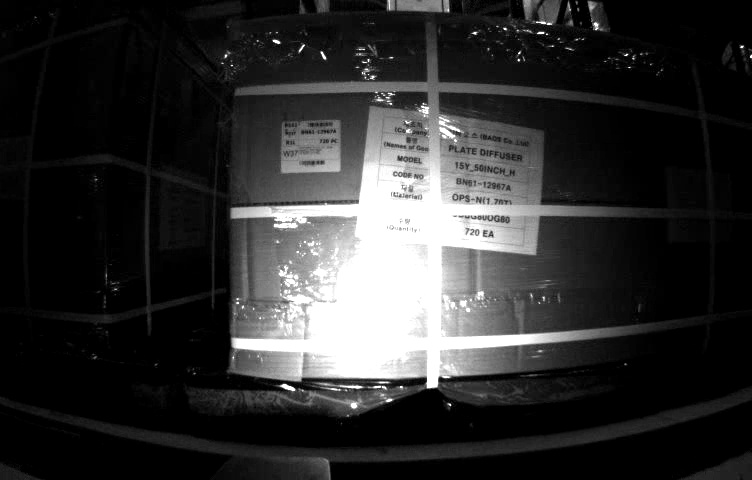True Barcode: (281, 119, 340, 172)
